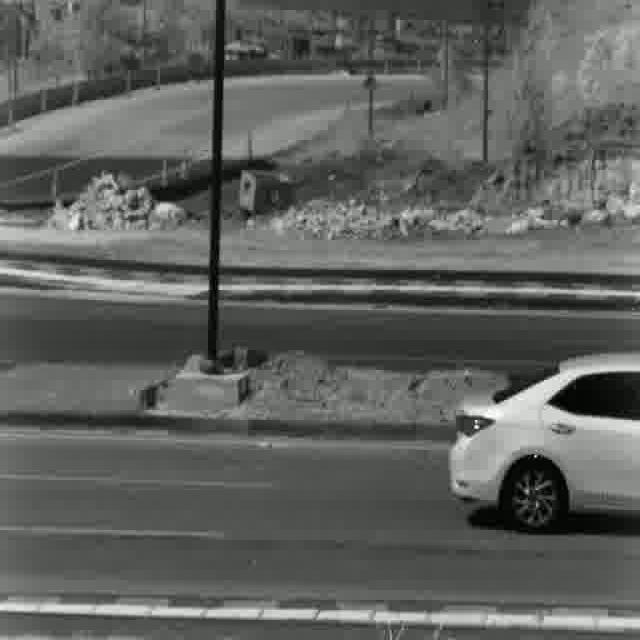Car: (447, 350, 640, 522)
